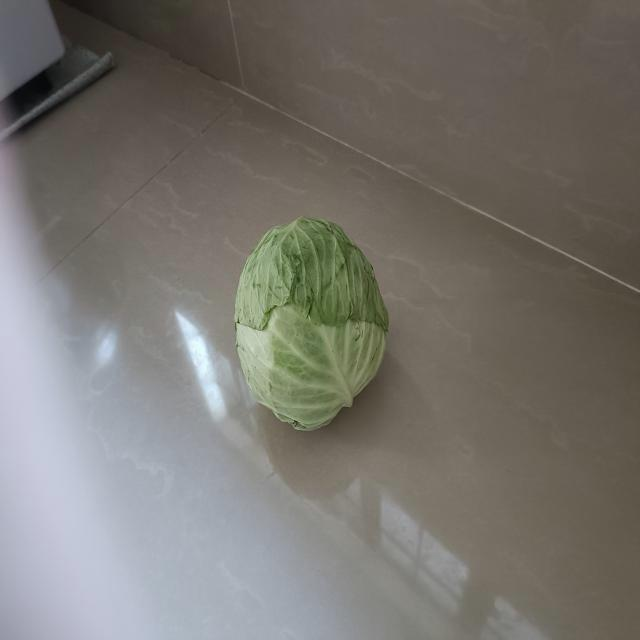cabbage: (229, 212, 390, 436)
